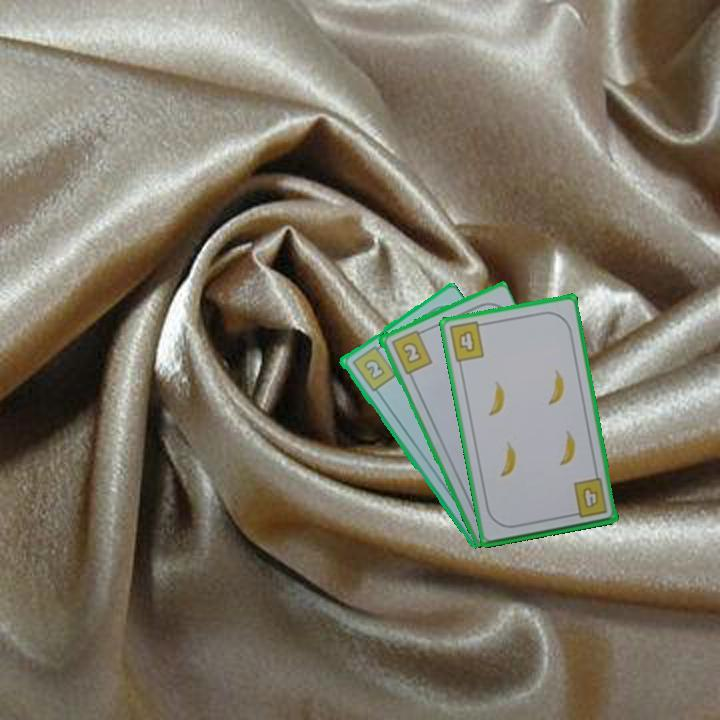2b: (348, 341, 398, 394), (387, 326, 435, 377)
4b: (445, 318, 489, 365), (567, 475, 610, 521)
